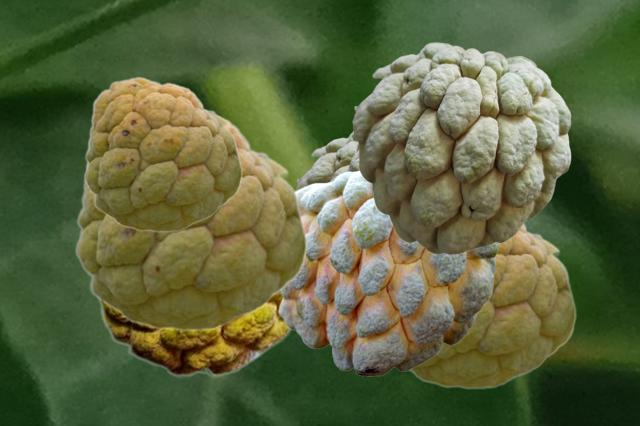atis: (74, 113, 306, 330), (352, 42, 570, 253), (278, 169, 498, 375), (408, 223, 575, 388), (83, 76, 241, 231), (95, 294, 292, 376), (295, 131, 357, 189)
